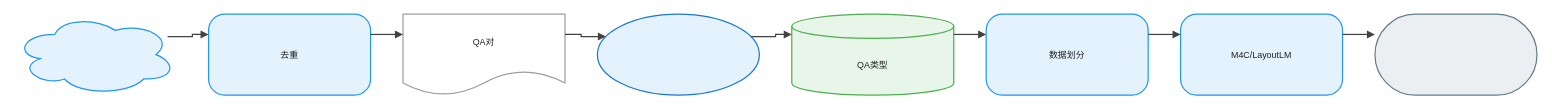
This 1552x110 diagram has some shape labels left out. Each missing label, with the centre of its shape:
ANLS: the point at 1455,54
二次答案: the point at 678,54
网页搜索: the point at 94,54
